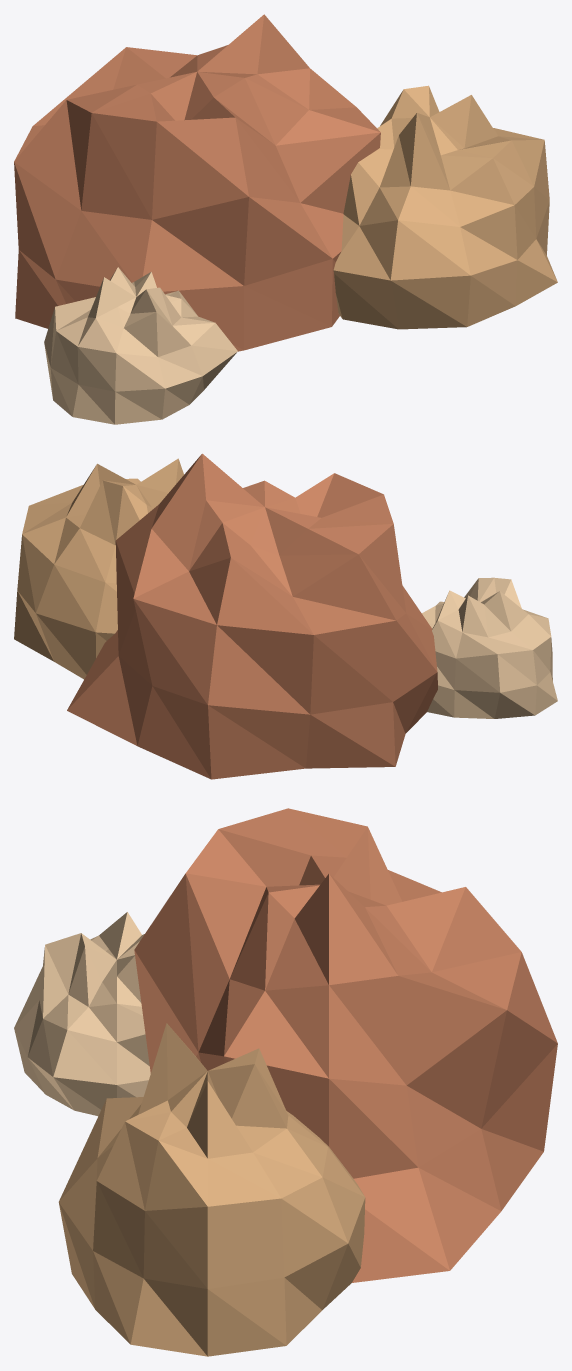
The model's file is rock1.glb.
The picture shows the model from 3 angles, top to bottom: view 1: azimuth 30°, elevation 25°; view 2: azimuth 150°, elevation 25°; view 3: azimuth 270°, elevation 25°; orthographic projection. The views are drawn at different scales.
Visible parts, largest first — view 1: boulder-cluster; view 2: boulder-cluster; view 3: boulder-cluster.
Boxes of the visible parts, x1=… form: boulder-cluster: x1=14, y1=14, x2=557, y2=424; boulder-cluster: x1=14, y1=453, x2=557, y2=779; boulder-cluster: x1=14, y1=808, x2=557, y2=1356.
Size of the model in its own units: 2.55 by 1.23 by 1.8.
